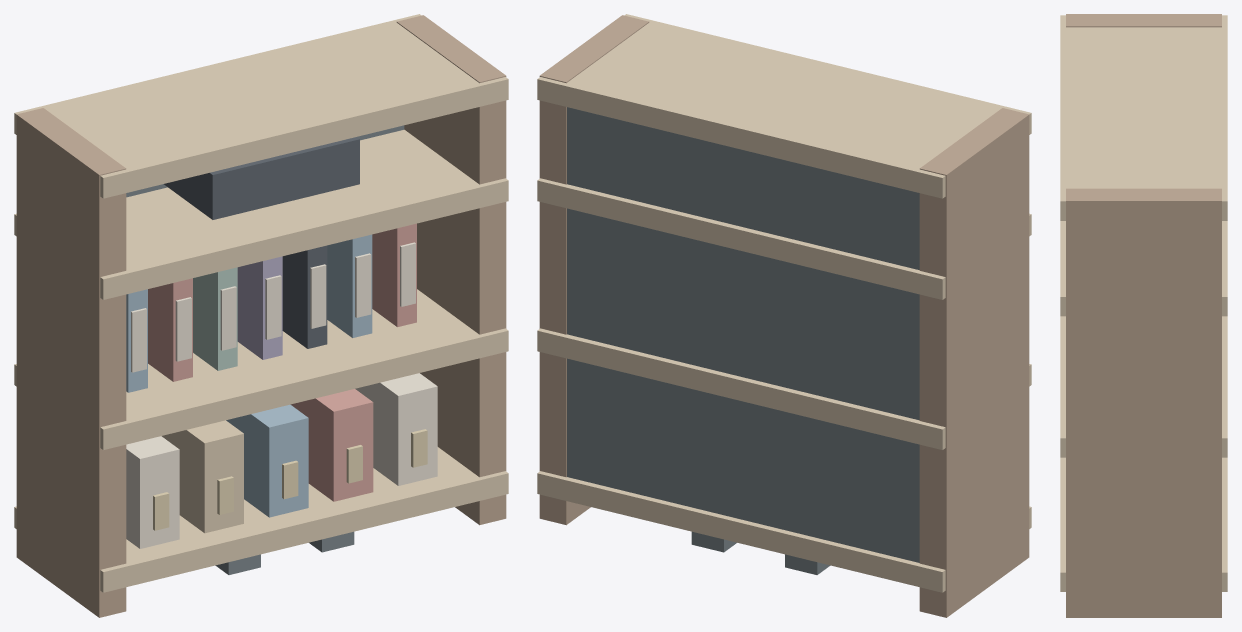
The model's file is game_display_shelf.glb.
The picture shows the model from 3 angles, left to right: view 1: azimuth 30°, elevation 25°; view 2: azimuth 150°, elevation 25°; view 3: azimuth 270°, elevation 25°; orthographic projection. The views are drawn at different scales.
Visible parts, largest first — view 1: TallShelfSide_-0.53, WoodShelf_1.15, TallShelfSide_0.53, WoodShelf_0.88, WoodShelf_0.48, WoodShelf_0.1, ConsoleMiniature, ArtBook_3, ArtBook_2, ArtBook_4, ArtBook_1, ArtBook_0 (+14 smaller); view 2: ShelfBack, TallShelfSide_-0.53, WoodShelf_1.15, TallShelfSide_0.53, WoodShelf_0.1, WoodShelf_0.48, WoodShelf_0.88; view 3: TallShelfSide_0.53, WoodShelf_1.15, TallShelfSide_-0.53, WoodShelf_0.48, WoodShelf_0.1, WoodShelf_0.88.
Boxes of the visible parts, x1,y1,x2,y2 form: TallShelfSide_-0.53: [16, 108, 126, 617]; WoodShelf_1.15: [14, 14, 508, 198]; TallShelfSide_0.53: [396, 15, 506, 525]; WoodShelf_0.88: [14, 129, 508, 299]; WoodShelf_0.48: [14, 289, 508, 449]; WoodShelf_0.1: [14, 447, 508, 592]; ConsoleMiniature: [164, 137, 359, 219]; ArtBook_3: [290, 389, 373, 501]; ArtBook_2: [226, 404, 308, 517]; ArtBook_4: [355, 373, 437, 485]; ArtBook_1: [161, 420, 243, 533]; ArtBook_0: [126, 436, 179, 548]; ShelfBack: [567, 107, 919, 562]; TallShelfSide_-0.53: [919, 108, 1029, 617]; WoodShelf_1.15: [537, 14, 1031, 198]; TallShelfSide_0.53: [539, 15, 649, 525]; WoodShelf_0.1: [537, 471, 1031, 592]; WoodShelf_0.48: [537, 328, 1031, 449]; WoodShelf_0.88: [537, 178, 1031, 299]; TallShelfSide_0.53: [1066, 188, 1221, 617]; WoodShelf_1.15: [1060, 15, 1227, 220]; TallShelfSide_-0.53: [1066, 14, 1221, 27]; WoodShelf_0.48: [1060, 316, 1227, 457]; WoodShelf_0.1: [1060, 457, 1227, 591]; WoodShelf_0.88: [1060, 221, 1227, 316].
Bounding box in the file's own units: 1.13 × 1.18 × 0.43.
